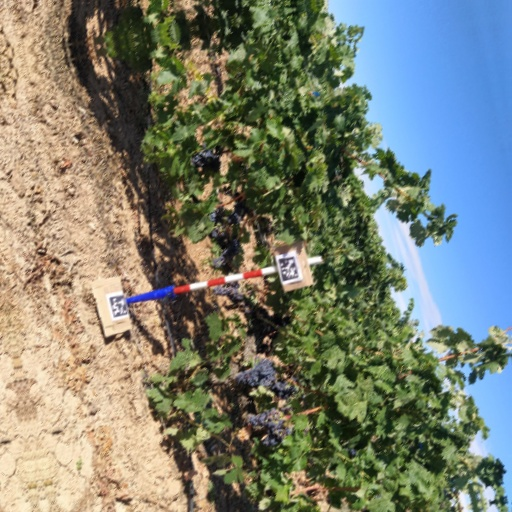QR: (109, 289, 131, 318), (279, 253, 302, 280)
